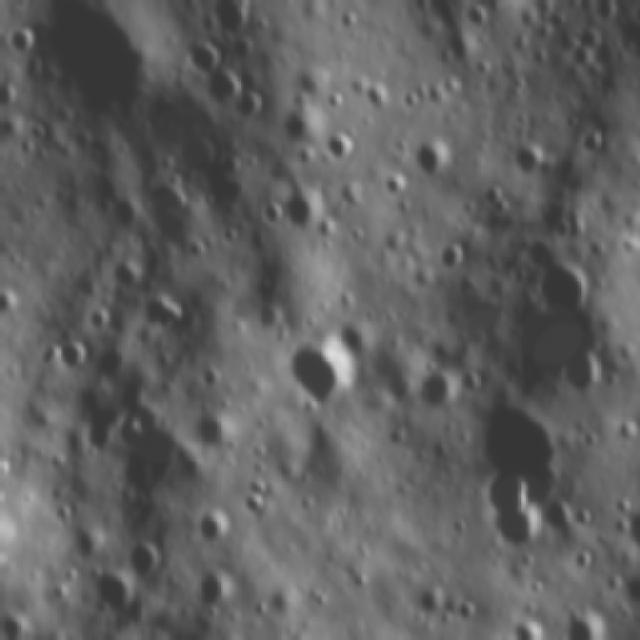crater: (459, 404, 579, 510), (277, 330, 357, 415), (486, 497, 552, 557), (530, 258, 596, 318), (143, 291, 200, 343), (84, 571, 134, 627), (187, 402, 236, 453), (554, 601, 617, 640), (412, 135, 459, 187), (209, 0, 262, 45), (106, 256, 151, 306), (39, 335, 93, 376), (556, 351, 604, 397), (501, 141, 552, 184), (182, 42, 230, 86), (187, 572, 233, 616), (122, 538, 163, 582), (194, 510, 234, 552), (322, 128, 360, 170), (618, 499, 640, 570), (225, 92, 272, 125), (413, 584, 449, 624), (207, 70, 245, 102), (0, 21, 35, 55), (575, 125, 610, 158), (432, 244, 466, 276), (0, 282, 26, 322), (506, 614, 546, 640), (452, 596, 482, 629), (618, 568, 640, 608)
